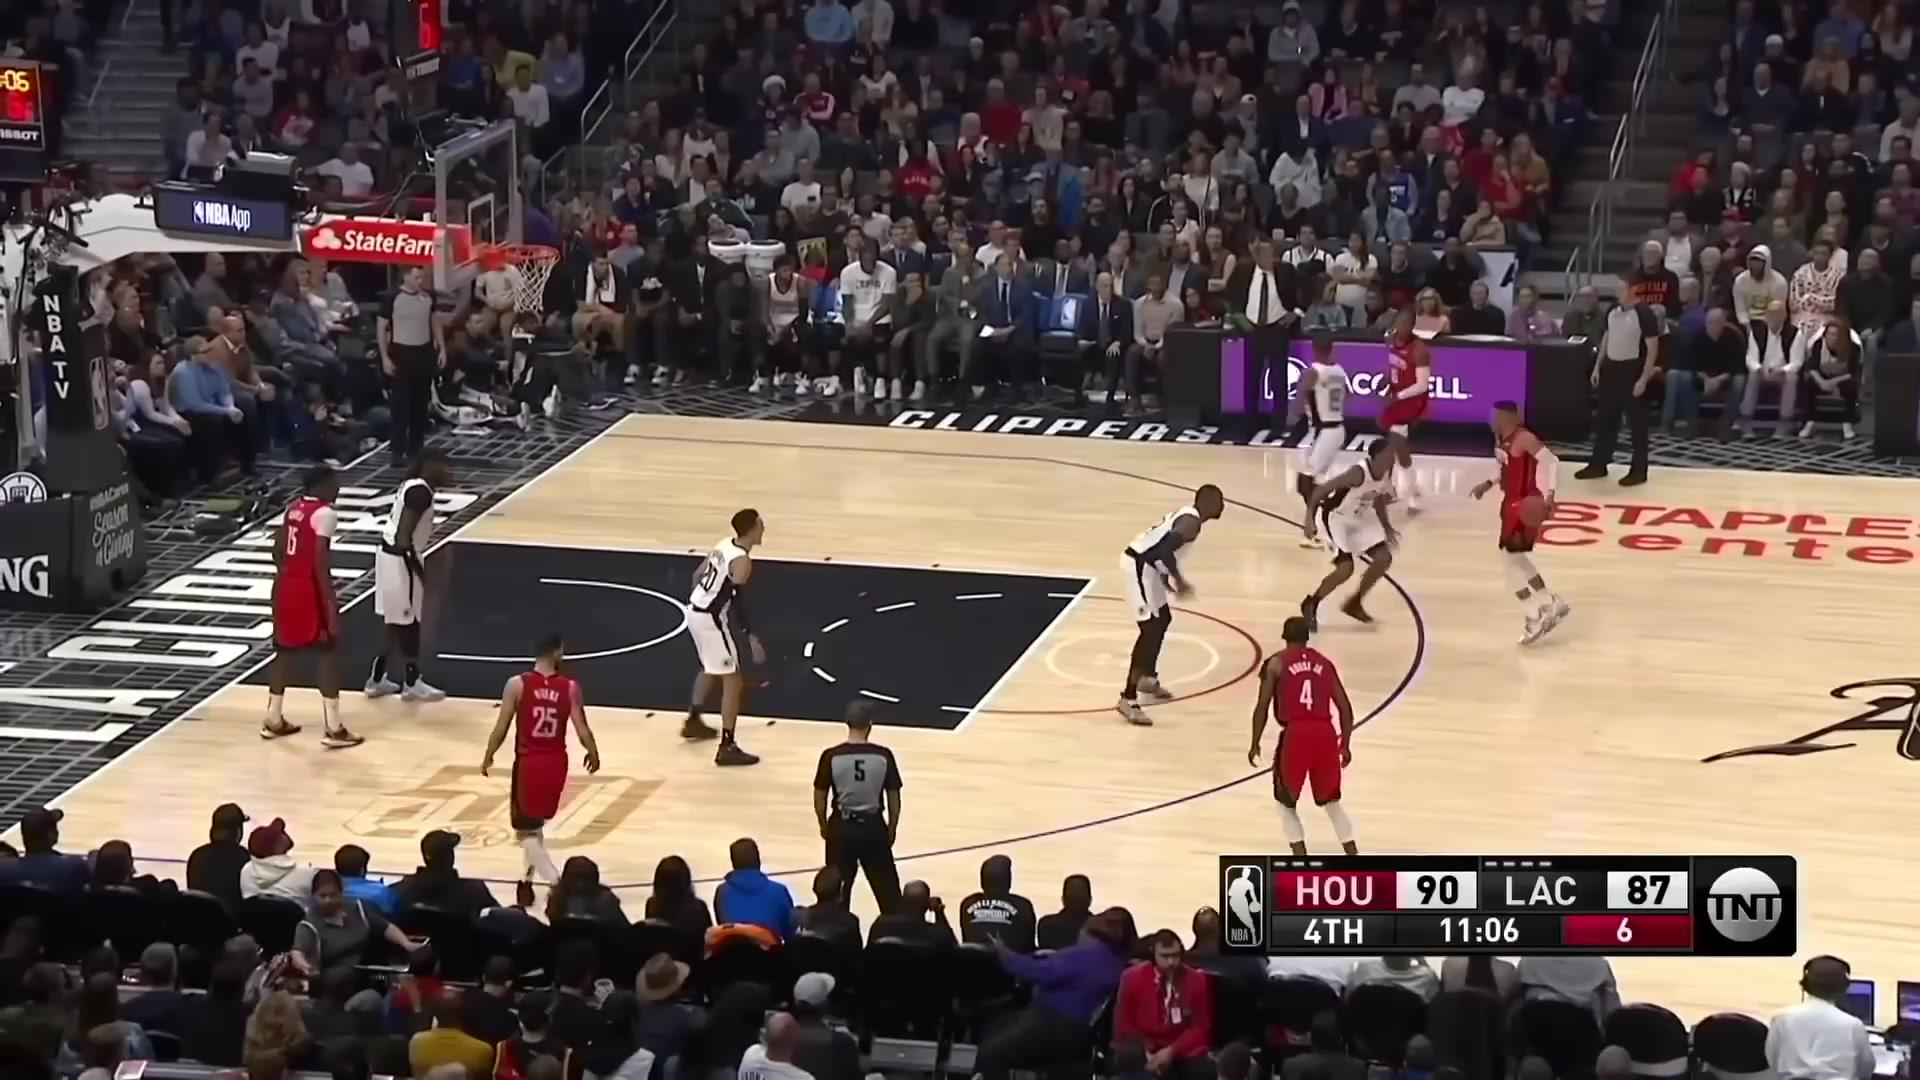no_foul: (1284, 381, 1581, 647)
